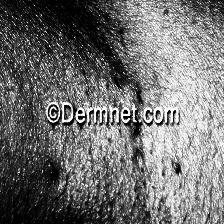Non-Cancerous Skin Condition: (174, 165, 180, 177), (134, 128, 139, 138), (52, 168, 56, 178)
